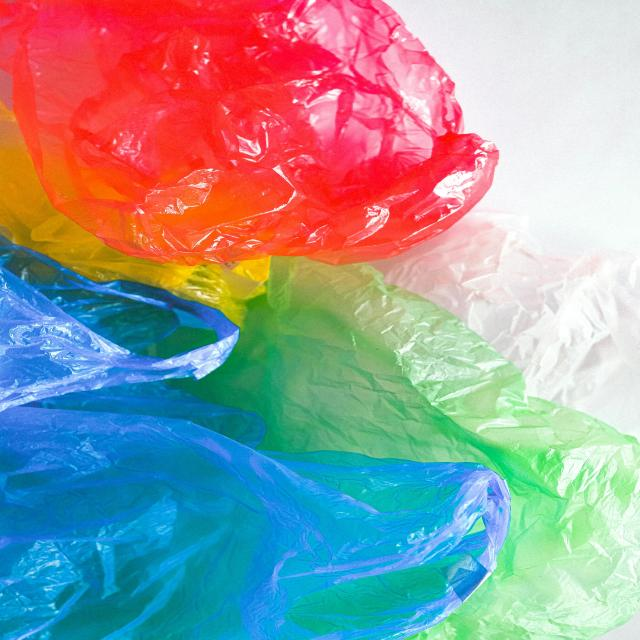Single-layer Plastic: (180, 258, 639, 640), (0, 0, 499, 265), (2, 405, 508, 640), (371, 211, 639, 435), (0, 104, 270, 325), (0, 238, 240, 410), (24, 381, 266, 448)
